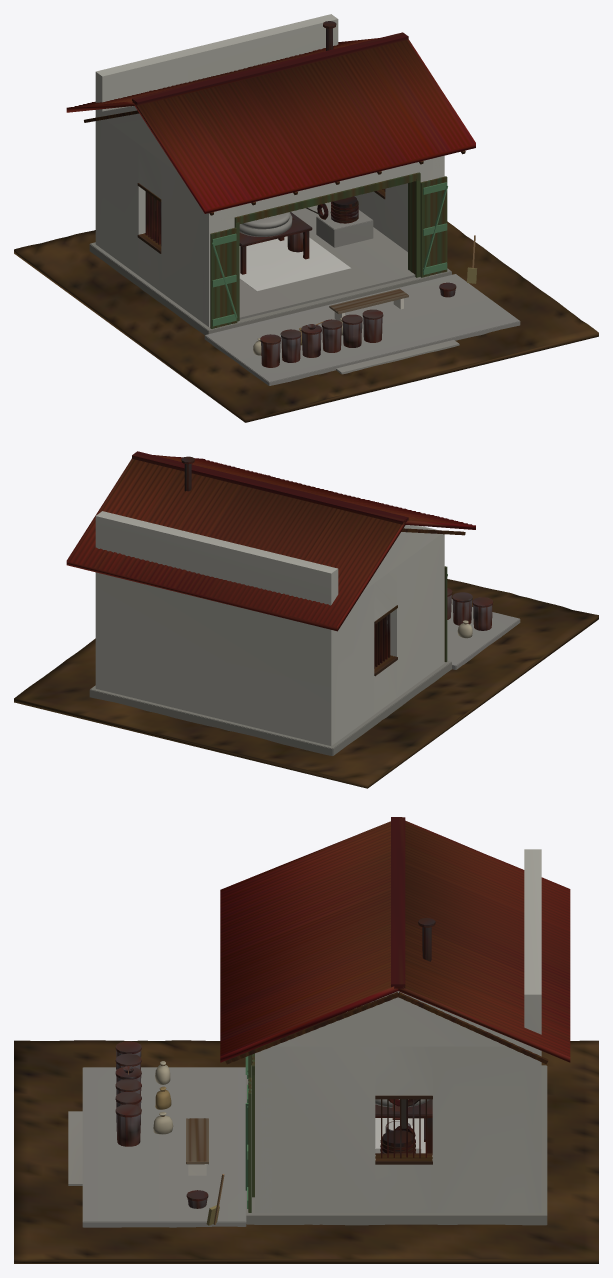
The model's file is atta_chakki_v2.glb.
3 views of the same model, one above another, from view 1: azimuth 30°, elevation 25°; view 2: azimuth 150°, elevation 25°; view 3: azimuth 270°, elevation 25° (orthographic). The views are drawn at different scales.
Parts seen in each view (by area): view 1: hb_main, hb_tin, hb_props, hb_metal; view 2: hb_main, hb_tin, hb_metal, hb_props; view 3: hb_main, hb_tin, hb_metal, hb_props.
Part boxes in pixels (x1,y1,x2,y2): hb_main: (14, 14, 598, 422); hb_tin: (66, 38, 475, 213); hb_props: (84, 110, 475, 328); hb_metal: (132, 21, 456, 367); hb_main: (14, 511, 598, 788); hb_tin: (66, 455, 475, 631); hb_metal: (132, 451, 493, 668); hb_props: (374, 528, 465, 676); hb_main: (14, 849, 598, 1263); hb_tin: (220, 820, 570, 1062); hb_metal: (115, 817, 435, 1208); hb_props: (128, 992, 548, 1224).
Size of the model in its own units: 9 by 5.33 by 10.2.
